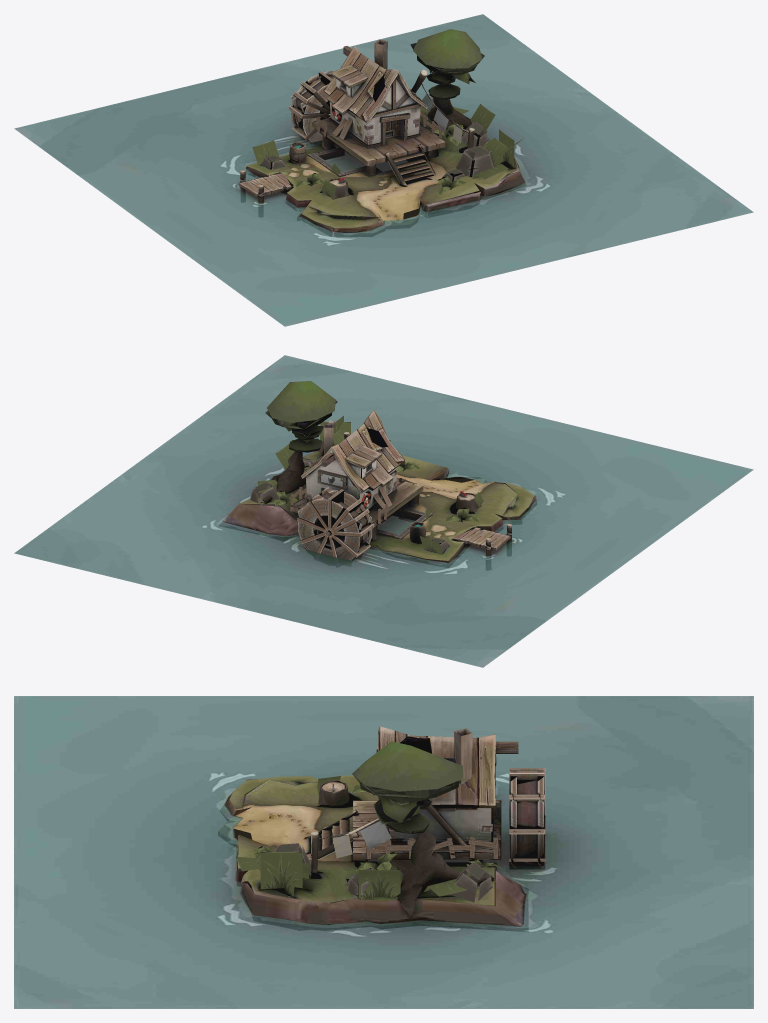
Rendered from env.glb.
The picture shows the model from 3 angles, top to bottom: view 1: azimuth 30°, elevation 25°; view 2: azimuth 150°, elevation 25°; view 3: azimuth 270°, elevation 25°; orthographic projection. The views are drawn at different scales.
Visible parts, largest first — view 1: m_Water, m_Ground, m_House, m_Tree, m_Grass, m_Rock, m_Pier, m_WoodenBeams, m_Clothline, m_Plants_Material #155_0, m_StoneLedge; view 2: m_Water, m_House, m_Ground, m_Tree, m_Grass, m_Pier, m_Rock, m_Plants_Material #155_0, m_StoneLedge; view 3: m_Water, m_Ground, m_House, m_Tree, m_Grass, m_Clothline, m_Rock, m_Fence, m_Plants_Material #155_0, m_Log.
Part boxes in pixels (box(x1,y1,x2,y2)): m_Water: box(14, 14, 753, 326); m_Ground: box(246, 106, 525, 236); m_House: box(288, 39, 446, 186); m_Tree: box(410, 29, 484, 136); m_Grass: box(252, 104, 524, 199); m_Rock: box(261, 96, 494, 182); m_Pier: box(238, 170, 293, 216); m_WoodenBeams: box(332, 78, 420, 145); m_Clothline: box(411, 69, 474, 148); m_Plants_Material #155_0: box(295, 106, 467, 195); m_StoneLedge: box(308, 147, 427, 176); m_Water: box(14, 355, 753, 667); m_House: box(290, 410, 423, 566); m_Ground: box(220, 450, 536, 567); m_Tree: box(263, 381, 337, 503); m_Grass: box(258, 416, 483, 554); m_Pier: box(451, 524, 511, 569); m_Rock: box(249, 458, 450, 552); m_Plants_Material #155_0: box(275, 455, 480, 522); m_StoneLedge: box(377, 507, 432, 539); m_Water: box(14, 696, 753, 1008); m_Ground: box(218, 775, 527, 931); m_House: box(306, 726, 545, 868); m_Tree: box(352, 741, 494, 919); m_Grass: box(236, 776, 466, 898); m_Clothline: box(311, 804, 469, 873); m_Rock: box(273, 843, 492, 902); m_Fence: box(365, 837, 498, 859); m_Plants_Material #155_0: box(253, 785, 500, 870); m_Log: box(318, 780, 349, 805).
Bounding box in the file's own units: 11.22 × 2.98 × 11.22.
23 materials, 23 textured.
